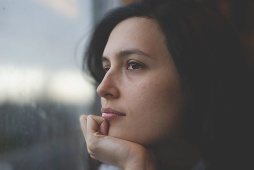female: (91, 29, 167, 145)
